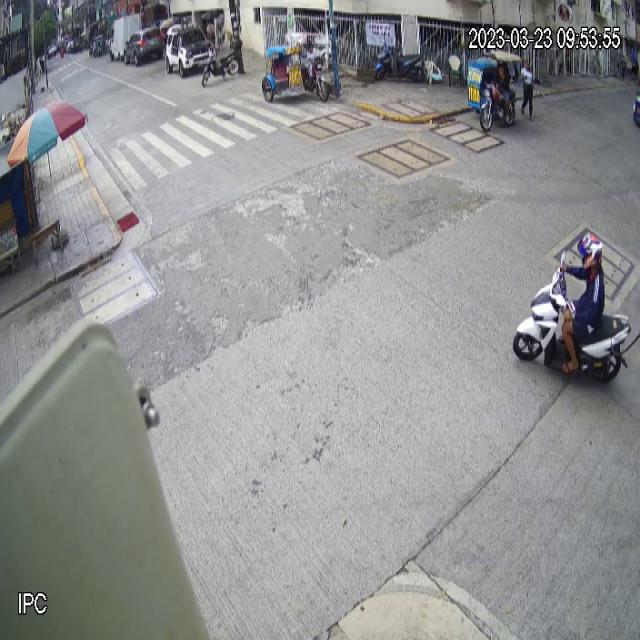Motorcycle: (512, 248, 634, 386)
Tricycle: (262, 32, 330, 103), (467, 50, 523, 132)
